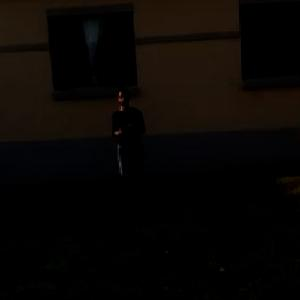follow: (109, 79, 151, 212)
